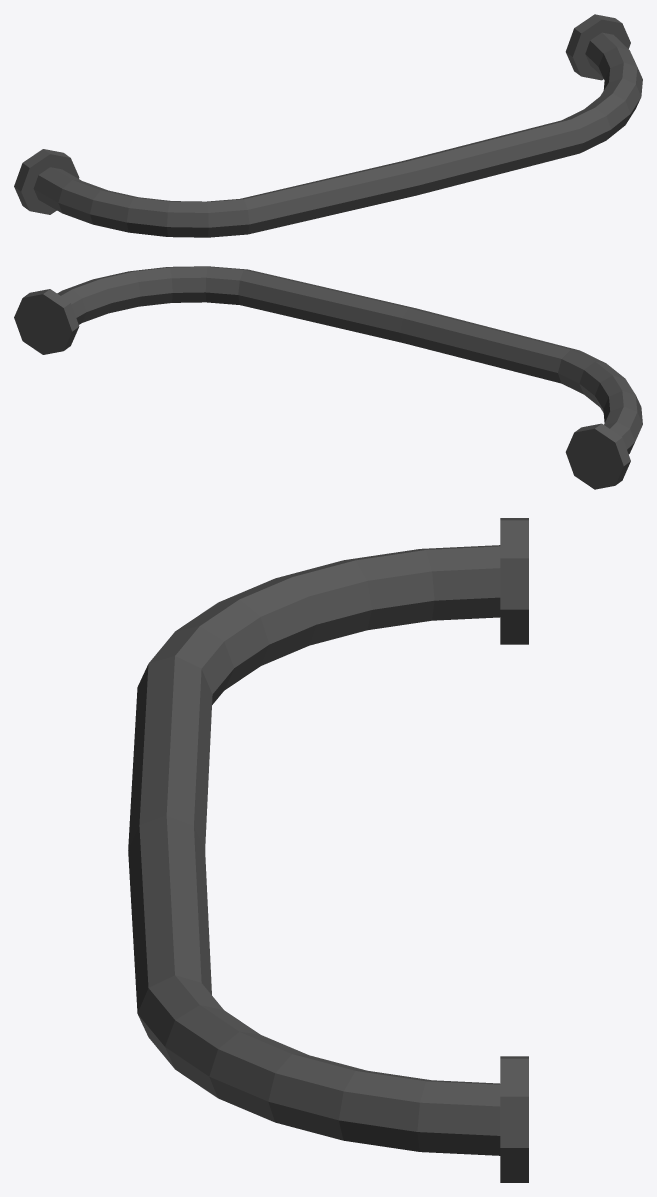
File: TowelRail_02.fbx
3 views of the same model, one above another, from view 1: azimuth 30°, elevation 25°; view 2: azimuth 150°, elevation 25°; view 3: azimuth 270°, elevation 25° (orthographic). The views are drawn at different scales.
Visible parts, largest first — view 1: TowelRail_02; view 2: TowelRail_02; view 3: TowelRail_02.
Boxes of the visible parts, x1,y1,x2,y2 form: TowelRail_02: (14, 14, 642, 237); TowelRail_02: (14, 266, 642, 489); TowelRail_02: (128, 518, 528, 1182).
Bounding box in the file's own units: 63.27 × 6.04 × 18.
